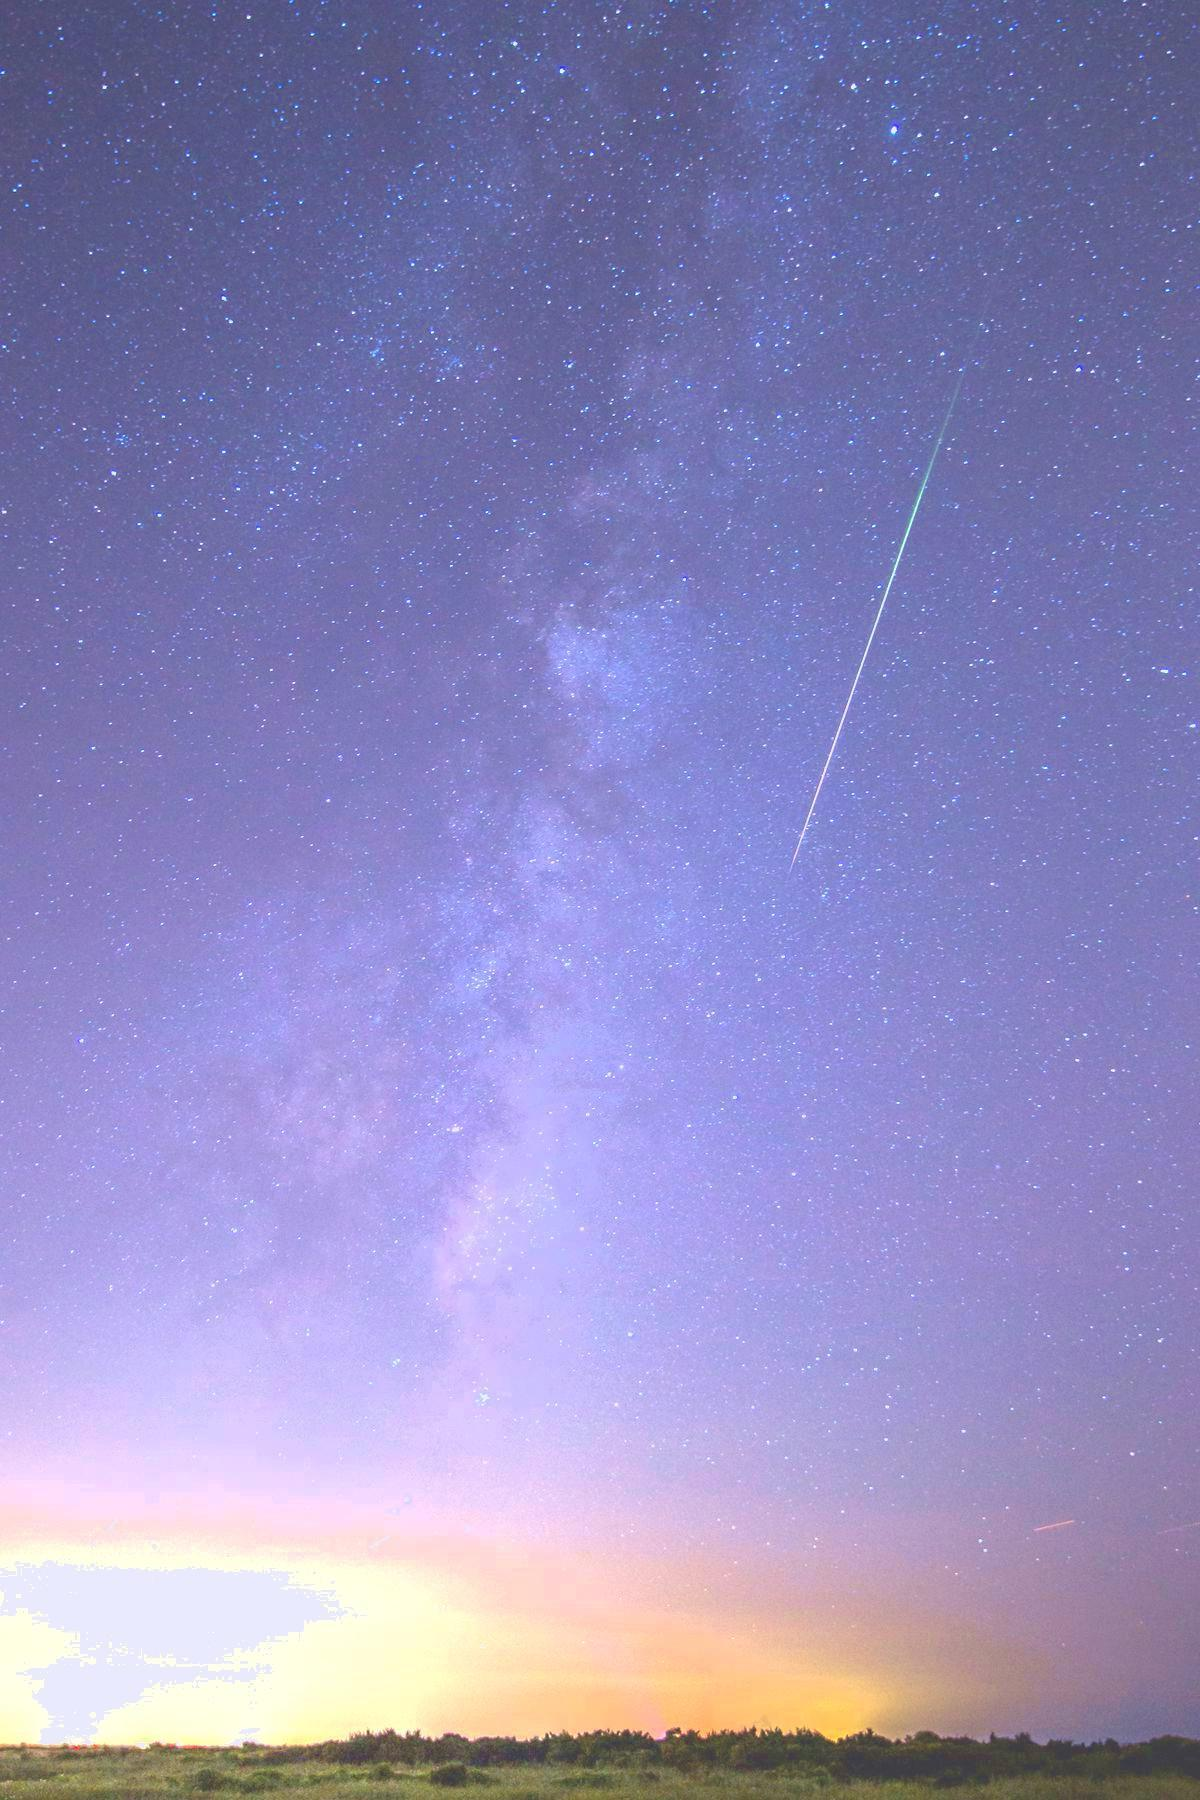meteorite: (770, 398, 998, 879)
